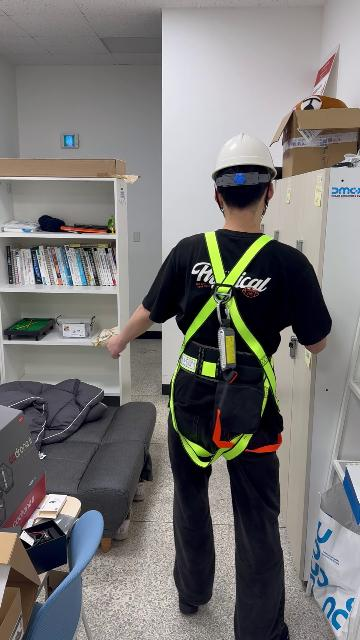helmet_worn: (211, 132, 278, 180)
shoe_worn: (178, 597, 199, 615)
vest_worn: (166, 241, 282, 455)
